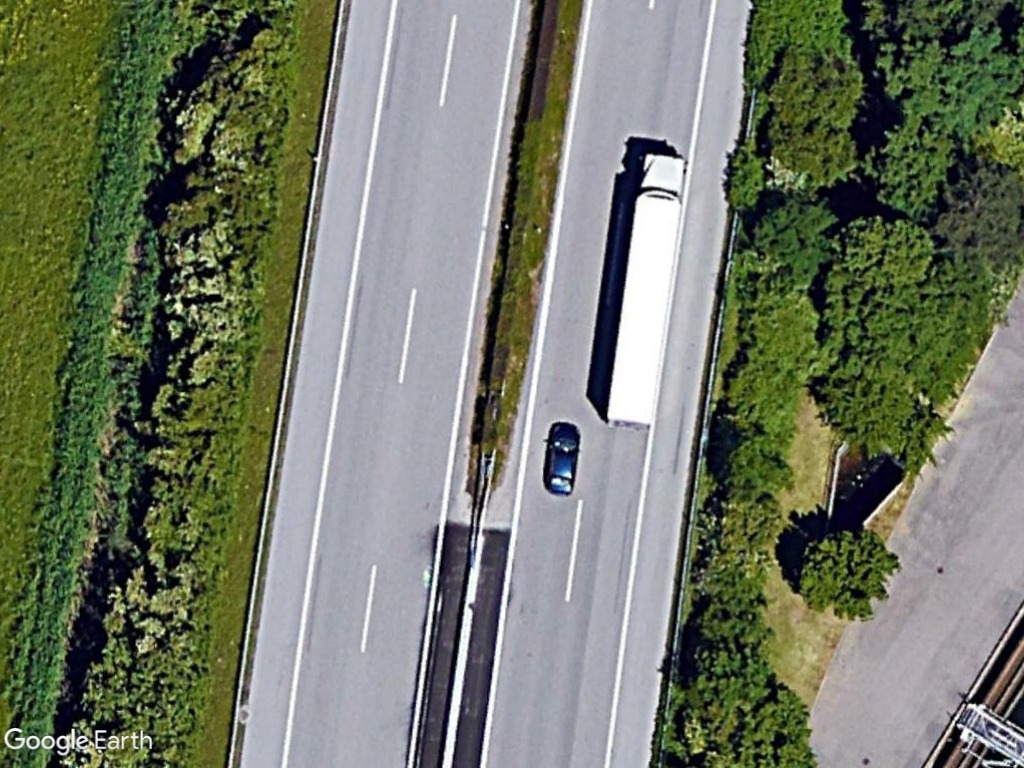car: (534, 416, 584, 501)
longvehicle: (600, 144, 689, 434)
